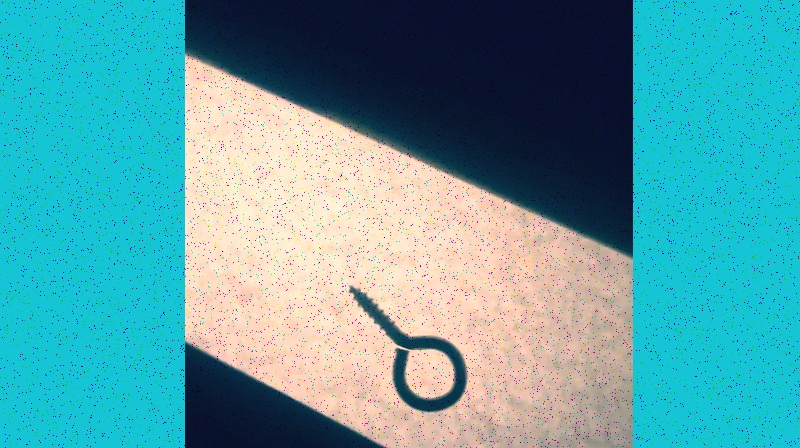O001: (347, 282, 469, 415)
